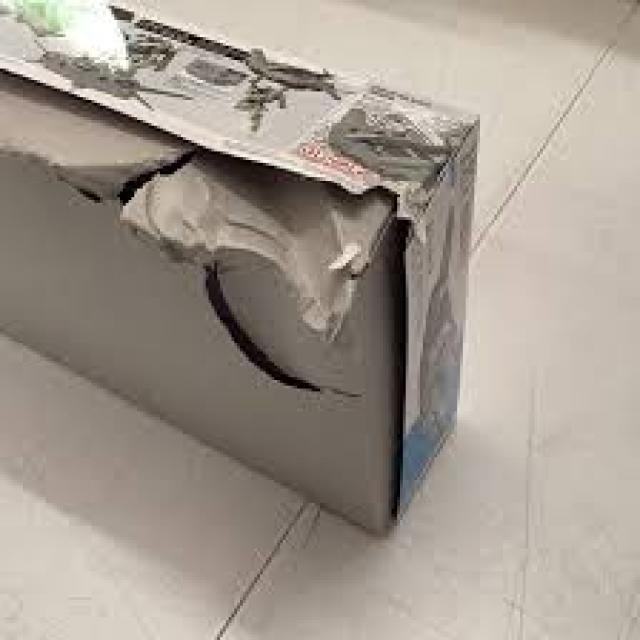box: (1, 1, 481, 539)
tear: (45, 127, 225, 268), (216, 162, 387, 284), (198, 260, 311, 402)
